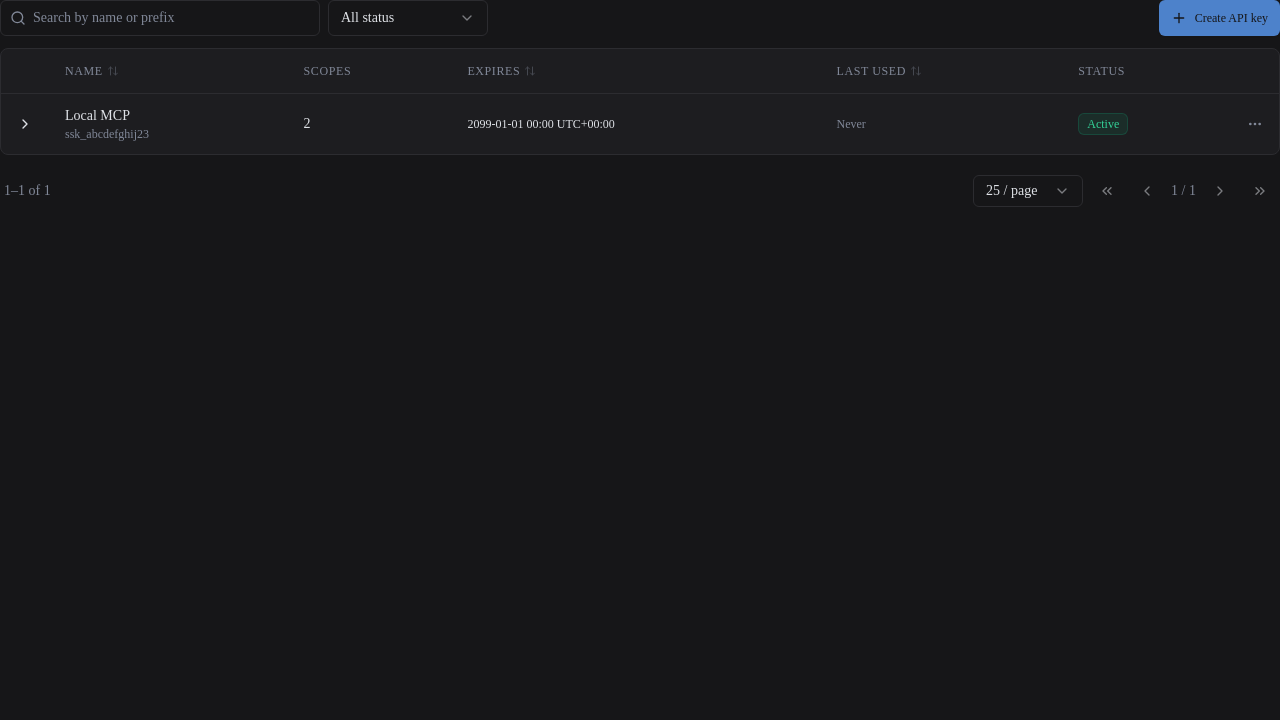
rotate › shows a server refusal inline
Check: the text "Local MCP" is shown, box left=65, top=108, right=130, bottom=122
Press . in the text "Local MCP", box left=1, top=93, right=1279, bottom=154
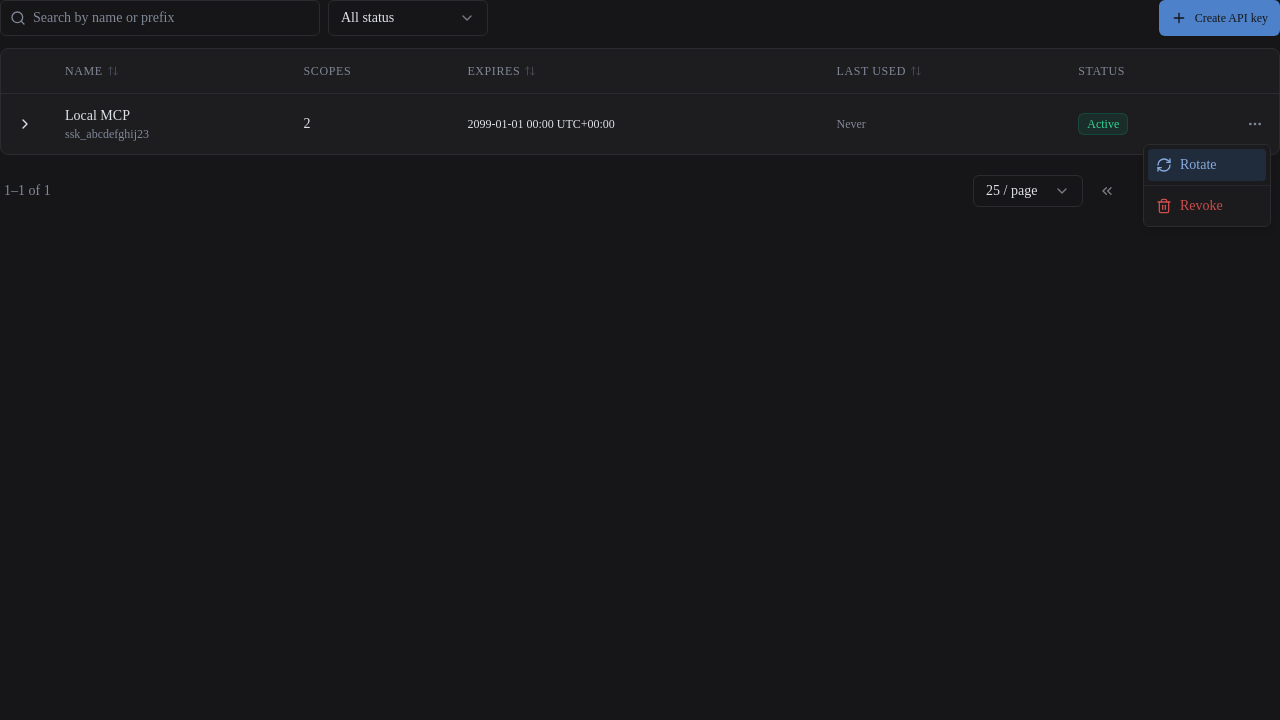
Click the menu item "Rotate" at x=1207, y=165, box left=1148, top=149, right=1266, bottom=181
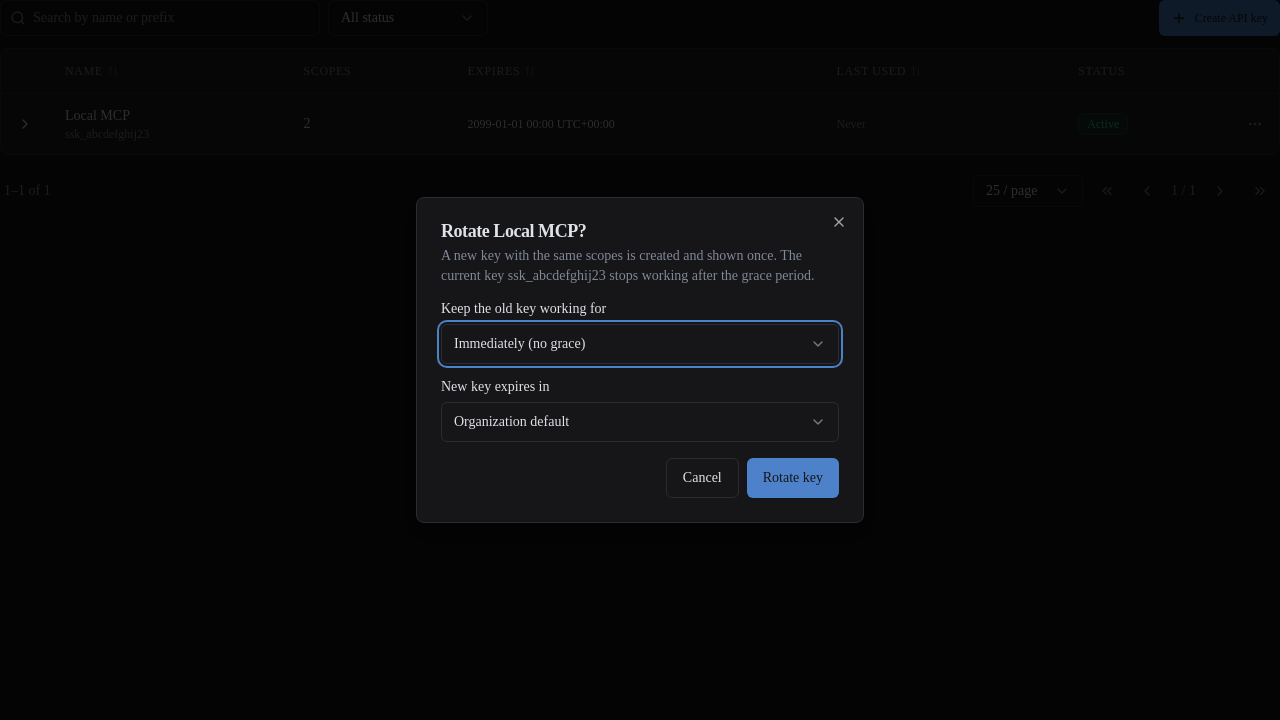
Click the button "Rotate key" at x=793, y=478, box left=747, top=458, right=839, bottom=498
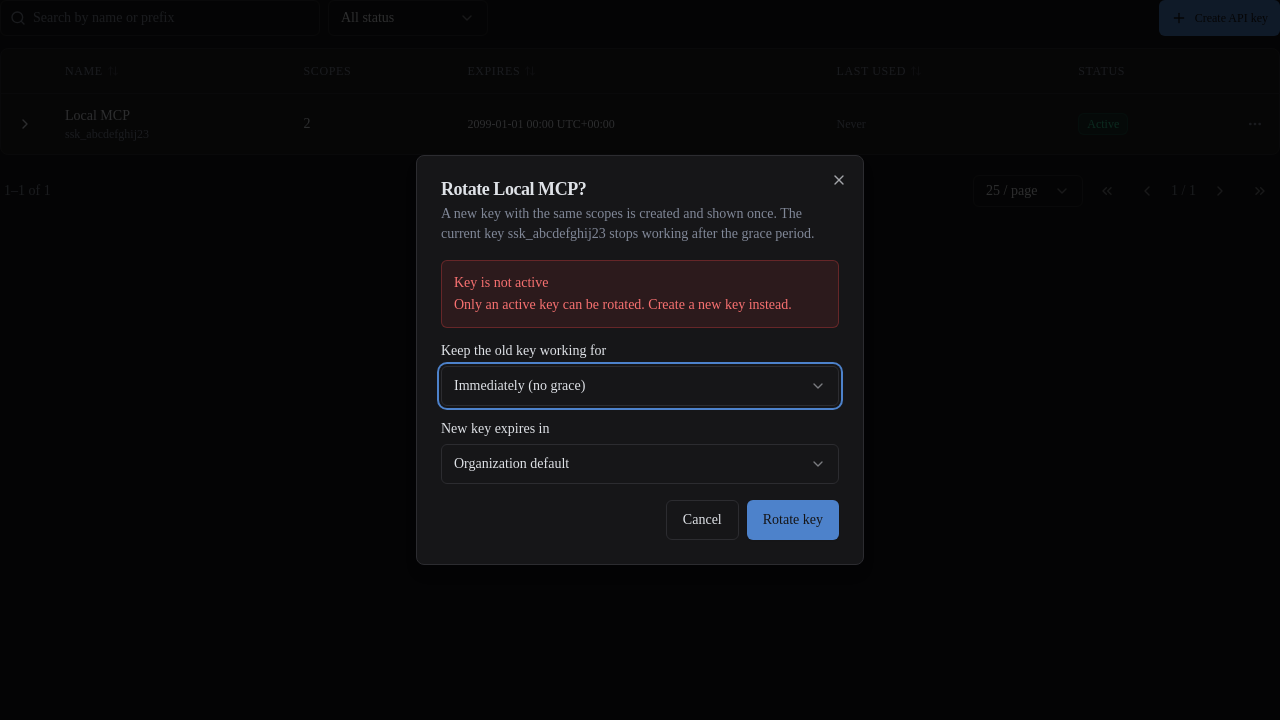
Check: the message shows "Key is not active", box left=454, top=275, right=548, bottom=290
